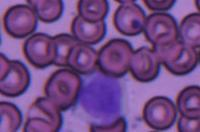L: (78, 71, 125, 125)
